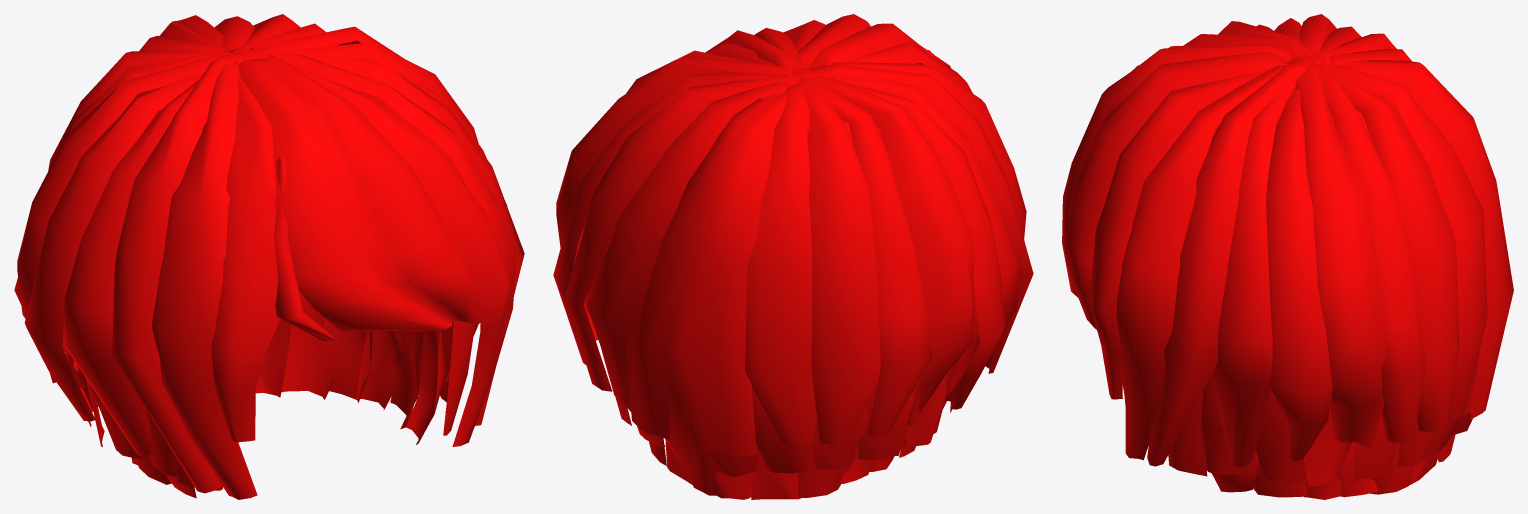
File: littleright_bobcut_hair_M.glb
3 views of the same model, side by side, from view 1: azimuth 30°, elevation 25°; view 2: azimuth 150°, elevation 25°; view 3: azimuth 270°, elevation 25° (orthographic). The views are drawn at different scales.
Bounding box in the file's own units: 0.2619 × 0.2273 × 0.2344.
1 material, 1 textured.
